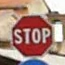stop: (9, 13, 53, 56)
